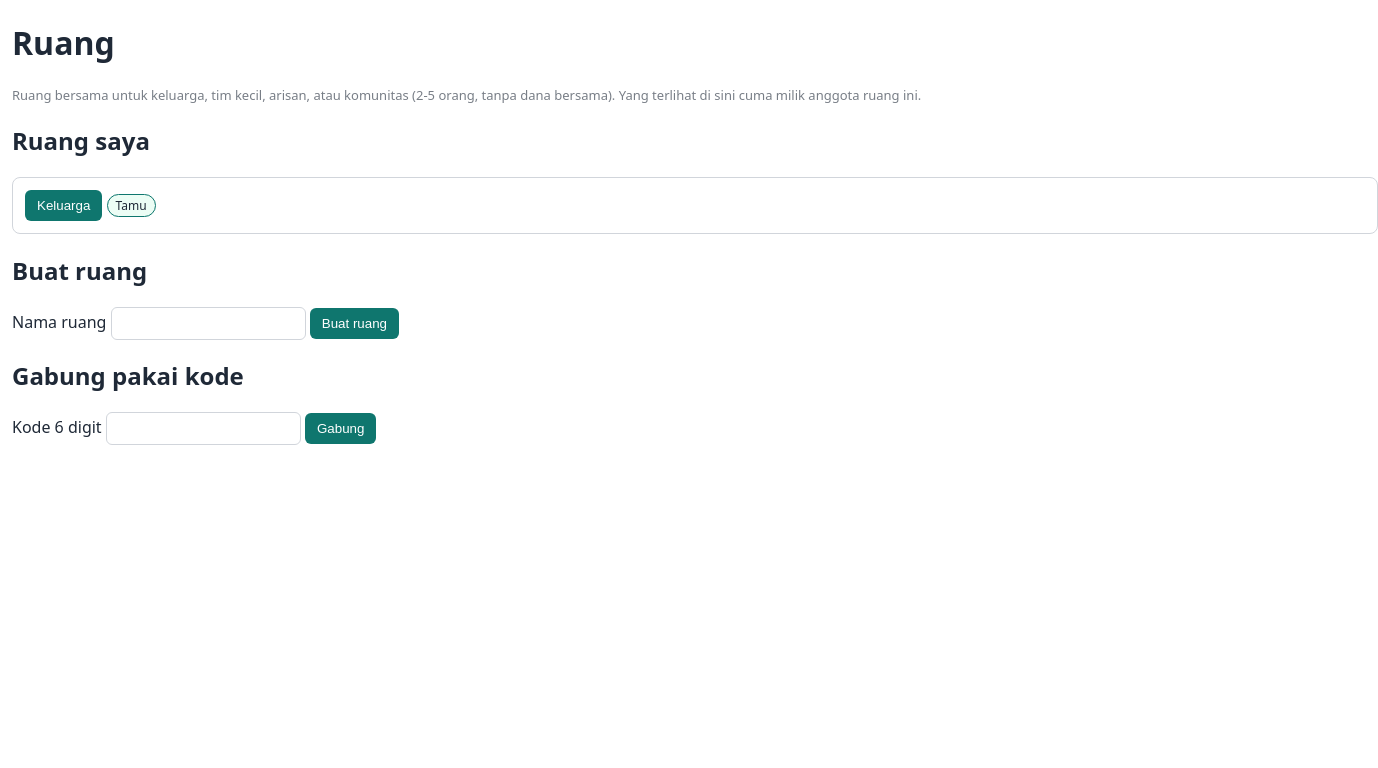
it: RoomsScreen (P-05) › hides every write control from a guest
Click the button "Keluarga".
click(64, 205)  # box x1=25 y1=190 x2=102 y2=221
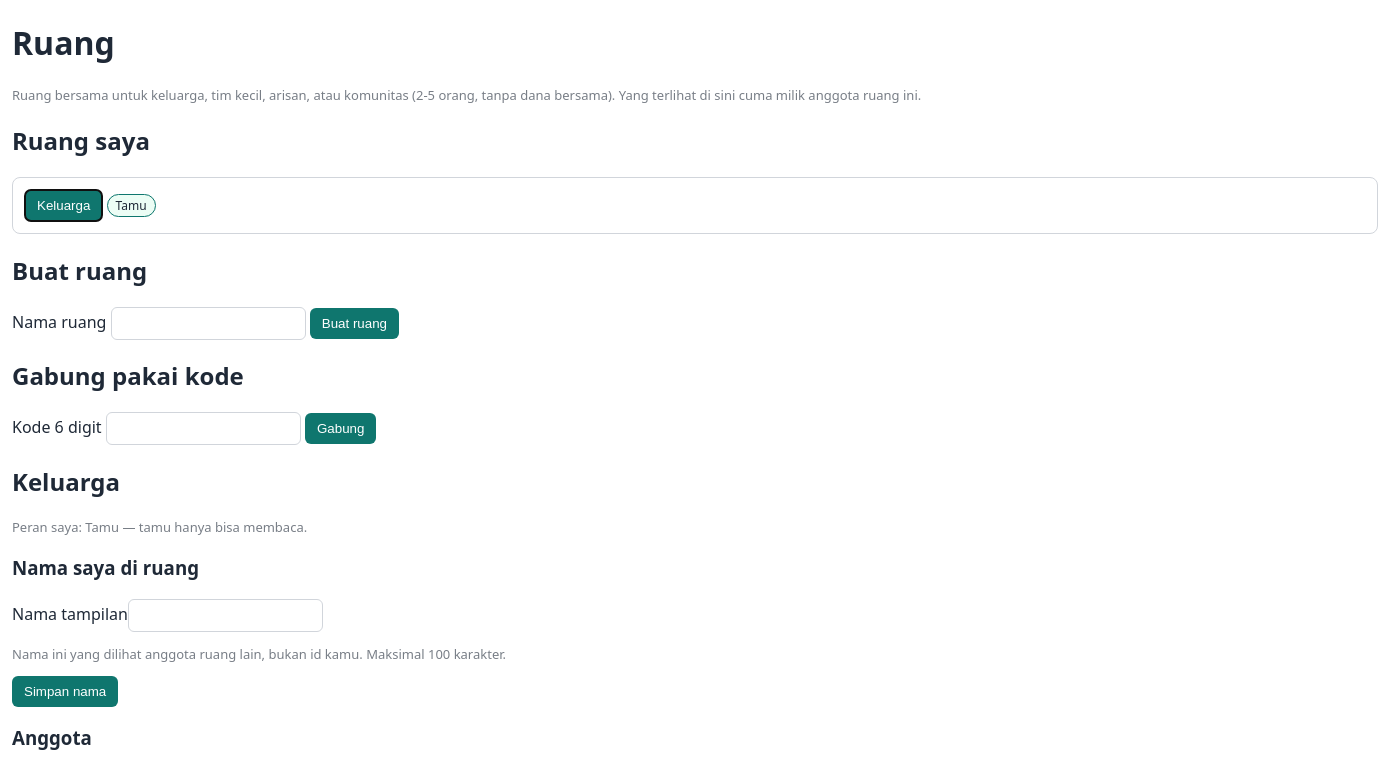
Expected: the text "Peran saya: Tamu — tamu hanya bisa membaca." is shown, x1=12 y1=518 x2=307 y2=536
